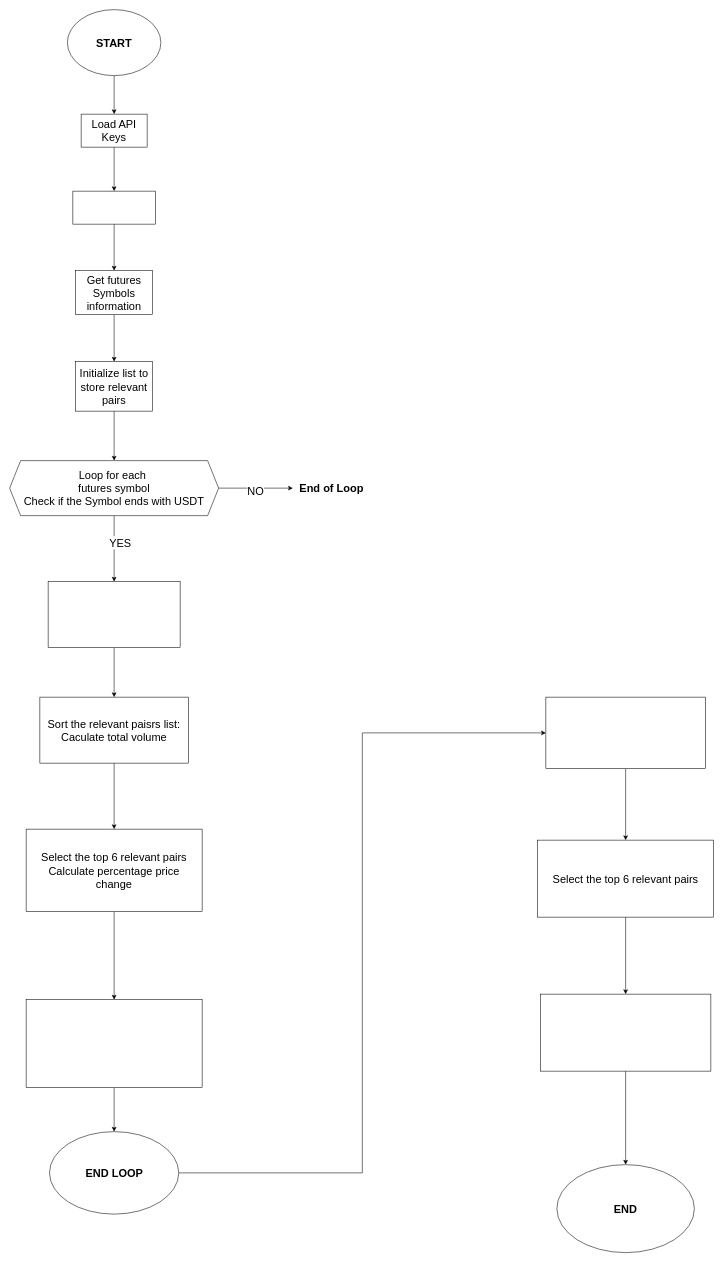
This 723x1262 diagram has some shape labels left out. The box of each missing label's shape, as (x1, y1, x2, y2) in pixels:
Create Binance Client instance: (72, 191, 155, 224)
Inside the loop Get historical price data: (48, 581, 180, 648)
Print the result: (540, 994, 711, 1071)
Print the results Add pair information to the relevant list: (26, 999, 202, 1088)
Sort the relevant pairs list: (545, 697, 705, 769)
